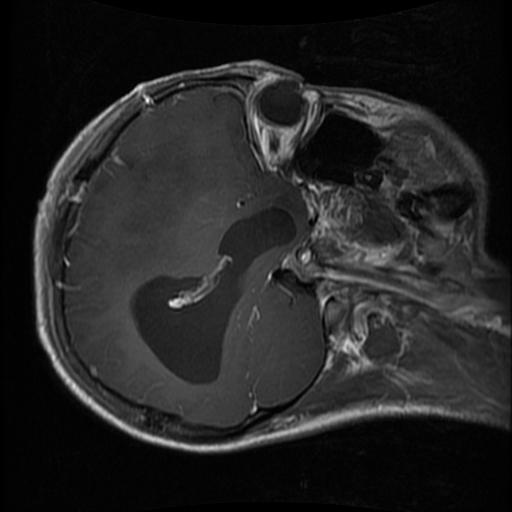glioma: (125, 204, 299, 384)
